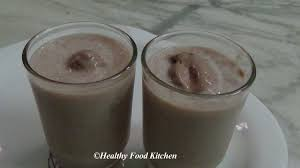jigirthanda: (137, 33, 280, 160), (31, 34, 127, 162)
